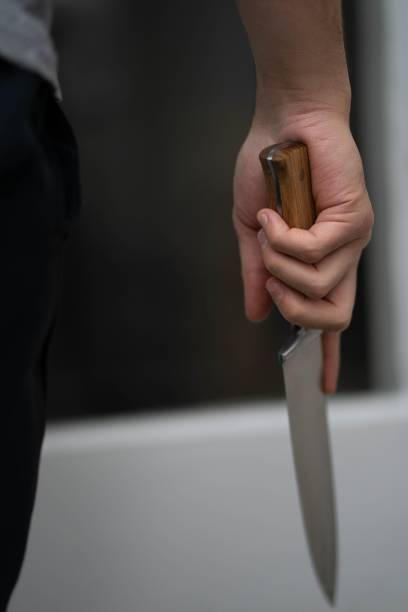knife: (254, 133, 340, 612)
